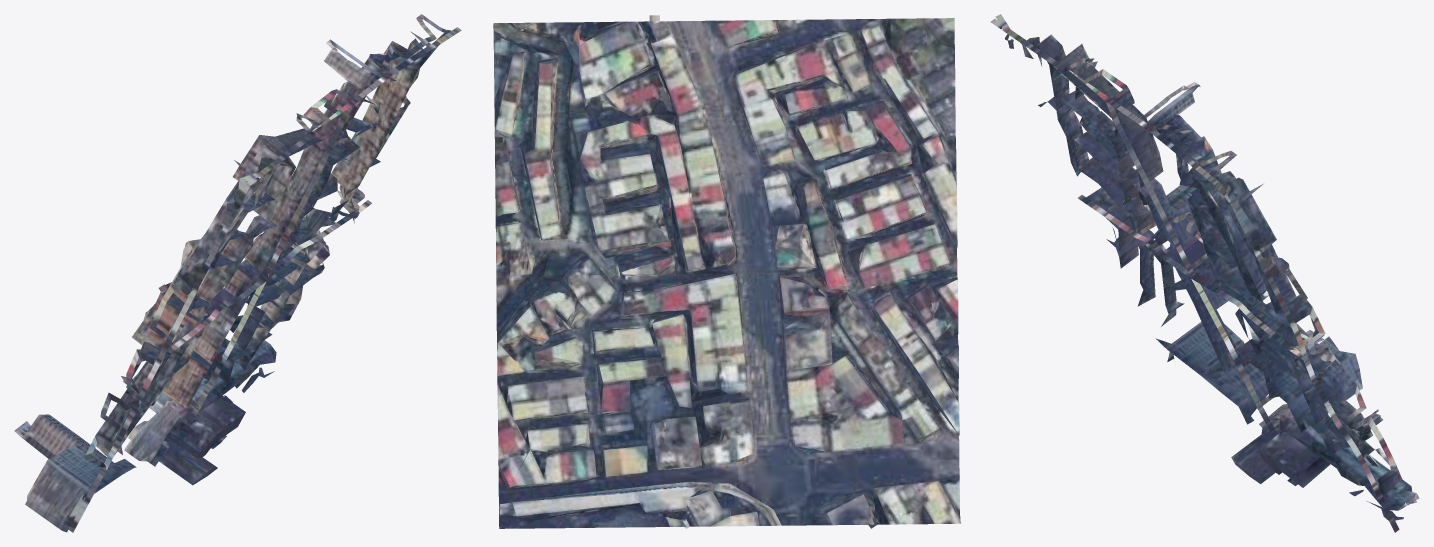
The picture shows the model from 3 angles, left to right: view 1: azimuth 30°, elevation 25°; view 2: azimuth 150°, elevation 25°; view 3: azimuth 270°, elevation 25°; orthographic projection. The views are drawn at different scales.
Size of the model in its own units: 325 by 309 by 270.
Materials: 1 (1 with a texture image).
